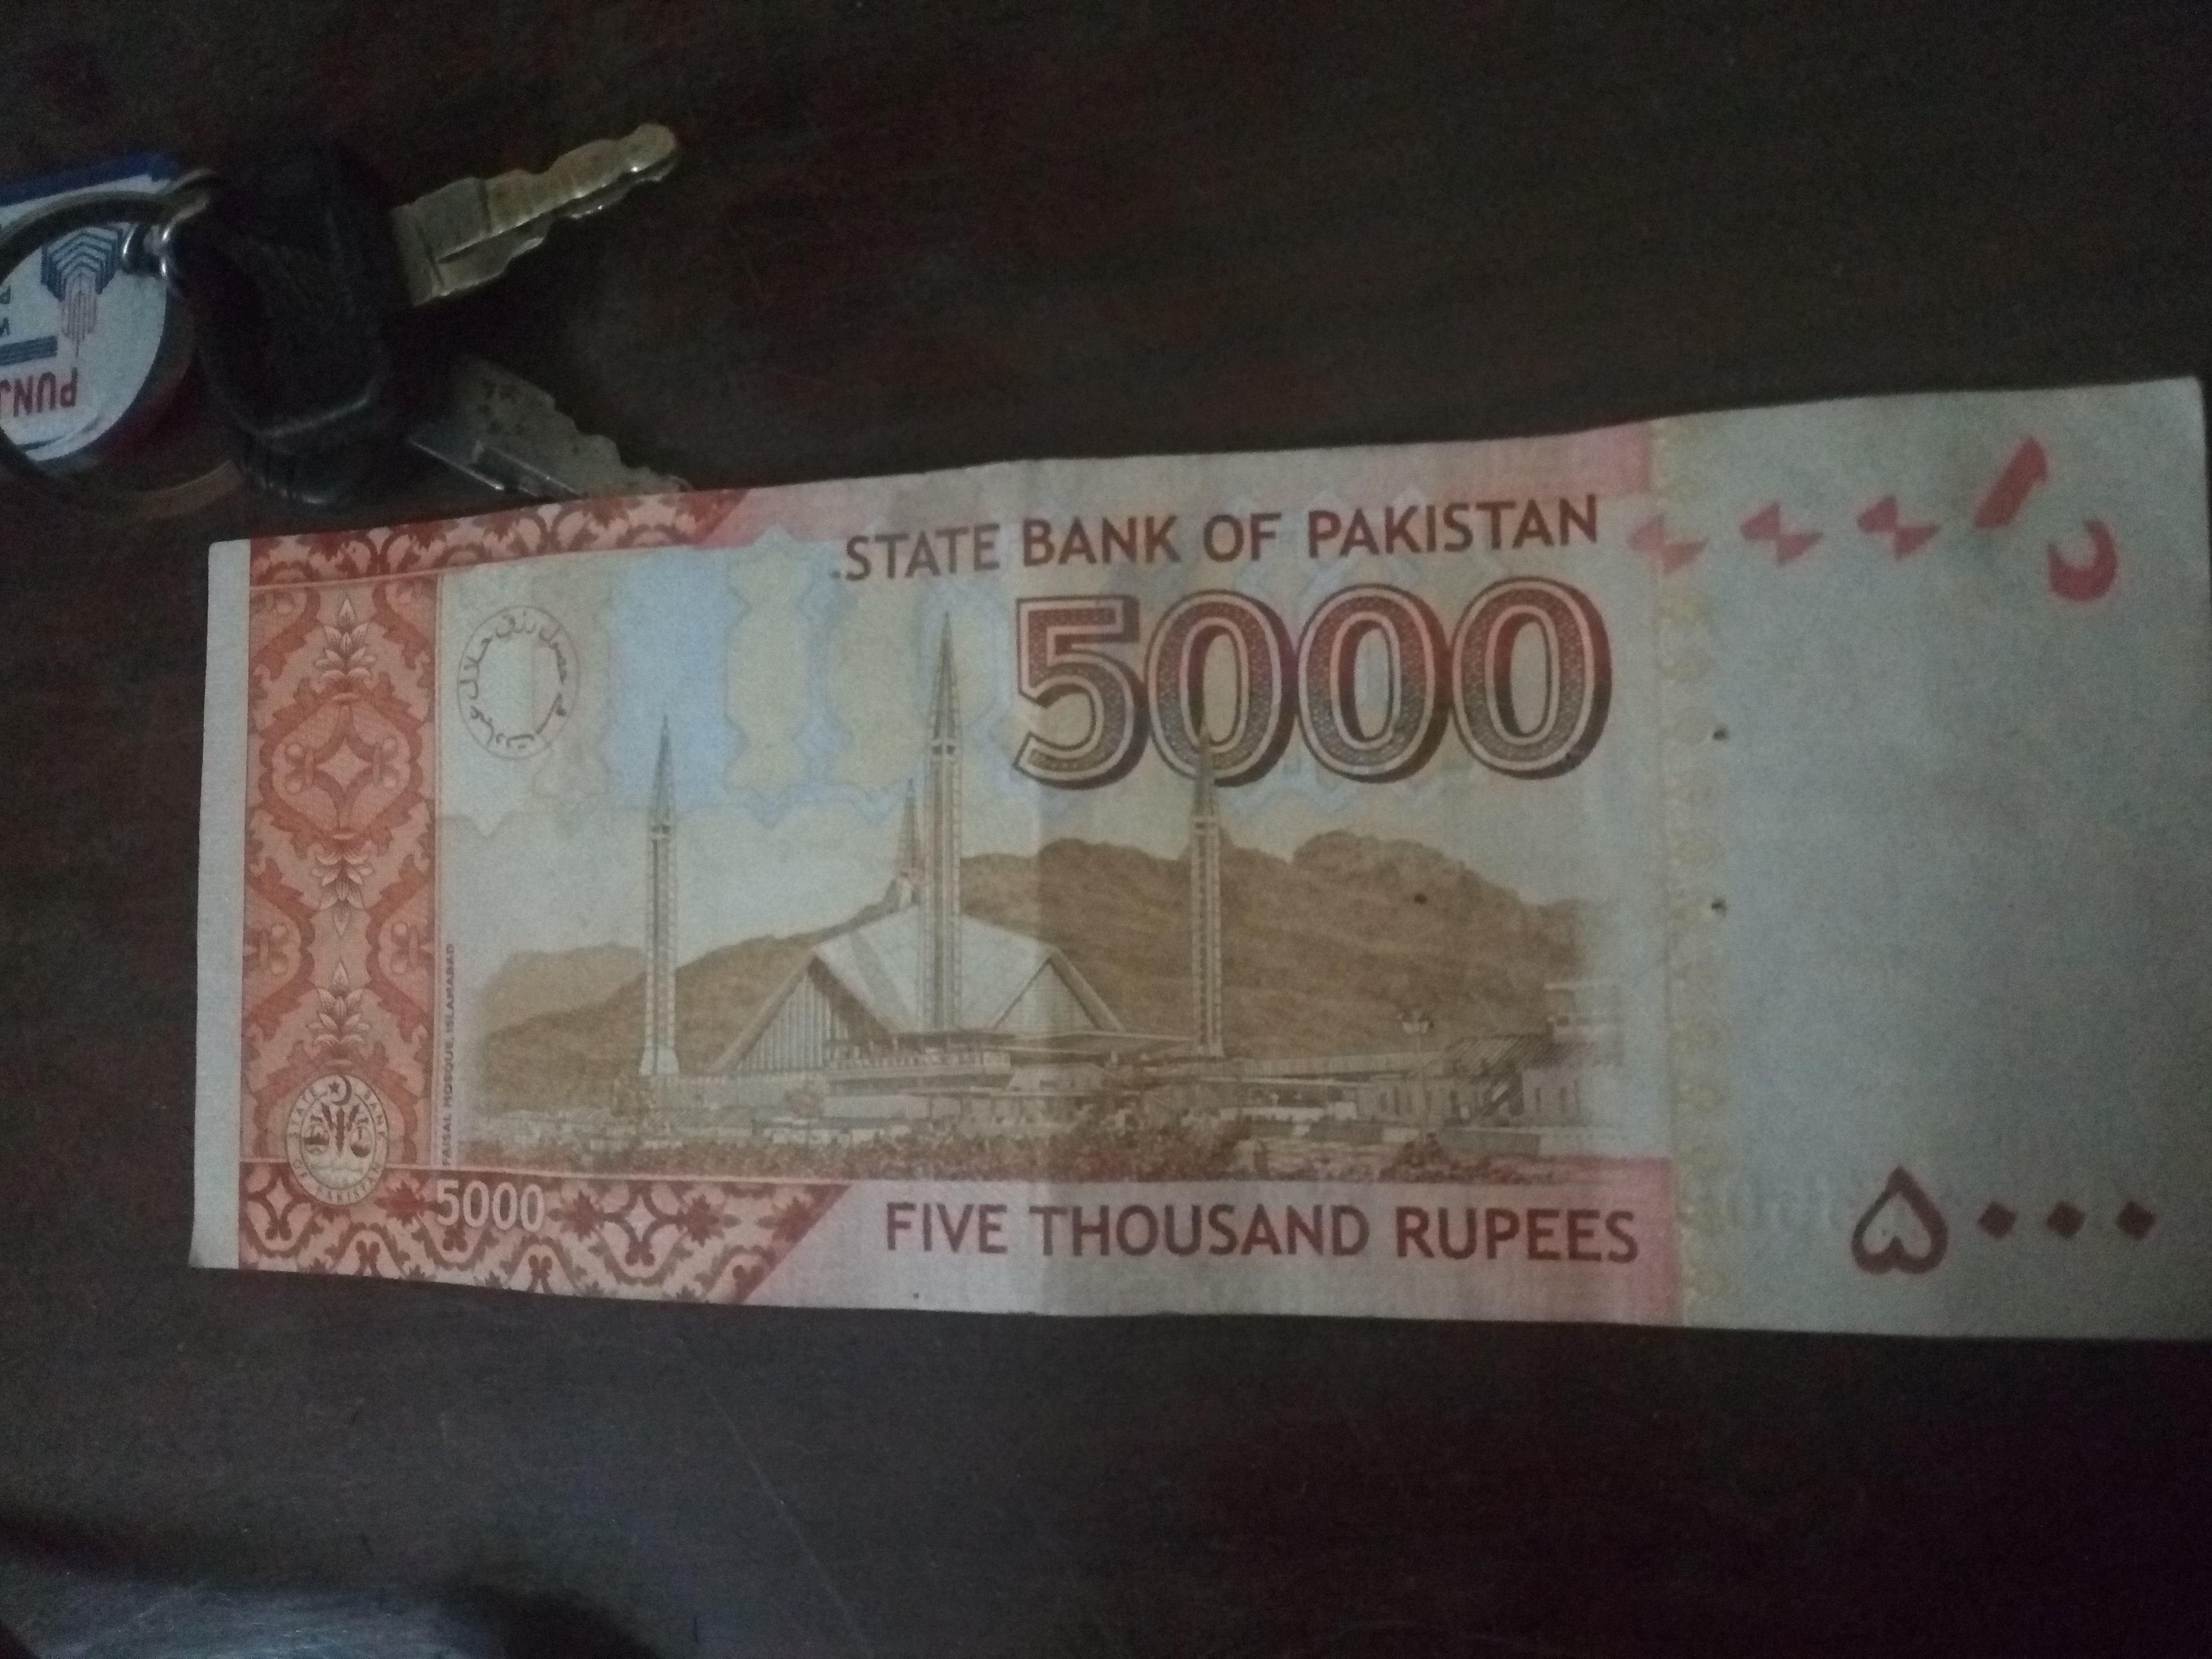5000 rupee: (160, 403, 2168, 1476)
